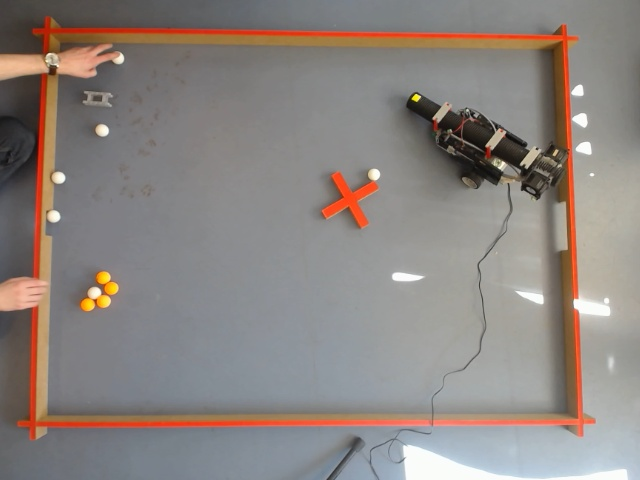orange: (78, 296, 98, 314), (94, 293, 112, 312), (98, 275, 116, 294), (95, 269, 112, 287), (89, 283, 104, 303), (103, 280, 120, 297)
robot: (393, 102, 571, 204)
white: (593, 469, 631, 480), (92, 122, 111, 140), (604, 468, 630, 480), (50, 170, 68, 186), (46, 208, 62, 224), (366, 167, 382, 183), (86, 285, 102, 301), (111, 52, 125, 66), (572, 83, 584, 97)
